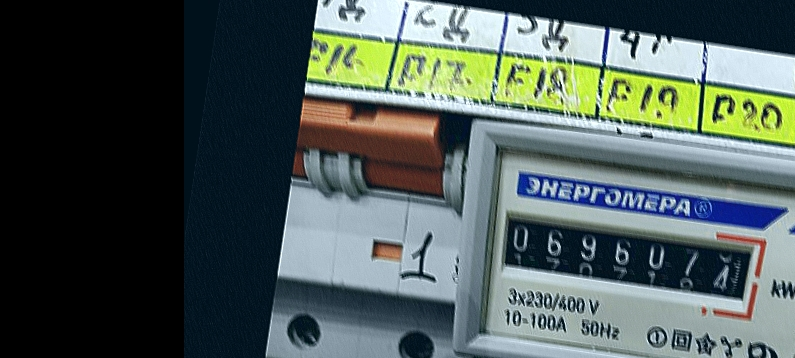0: (509, 221, 532, 253), (643, 240, 666, 270)
4: (709, 262, 731, 292)
6: (611, 235, 633, 266), (542, 227, 564, 256)
7: (678, 245, 701, 278)
9: (576, 232, 598, 262)
screen: (483, 195, 771, 322)
